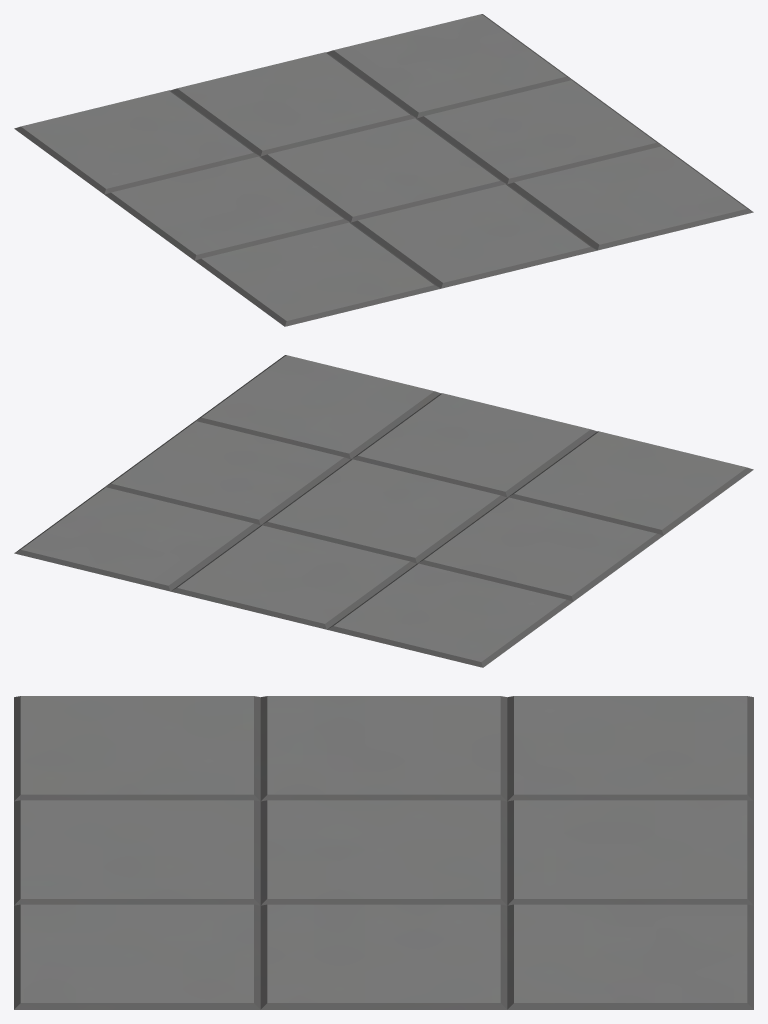
The model's file is Floor_4.fbx.
The picture shows the model from 3 angles, top to bottom: view 1: azimuth 30°, elevation 25°; view 2: azimuth 150°, elevation 25°; view 3: azimuth 270°, elevation 25°; orthographic projection. The views are drawn at different scales.
Parts seen in each view (by area): view 1: Floor 4; view 2: Floor 4; view 3: Floor 4.
Boxes of the visible parts, x1,y1,x2,y2 form: Floor 4: (14,14,753,326); Floor 4: (14,355,753,667); Floor 4: (14,696,753,1009).
Bounding box in the file's own units: 280 × 1.66 × 280.
